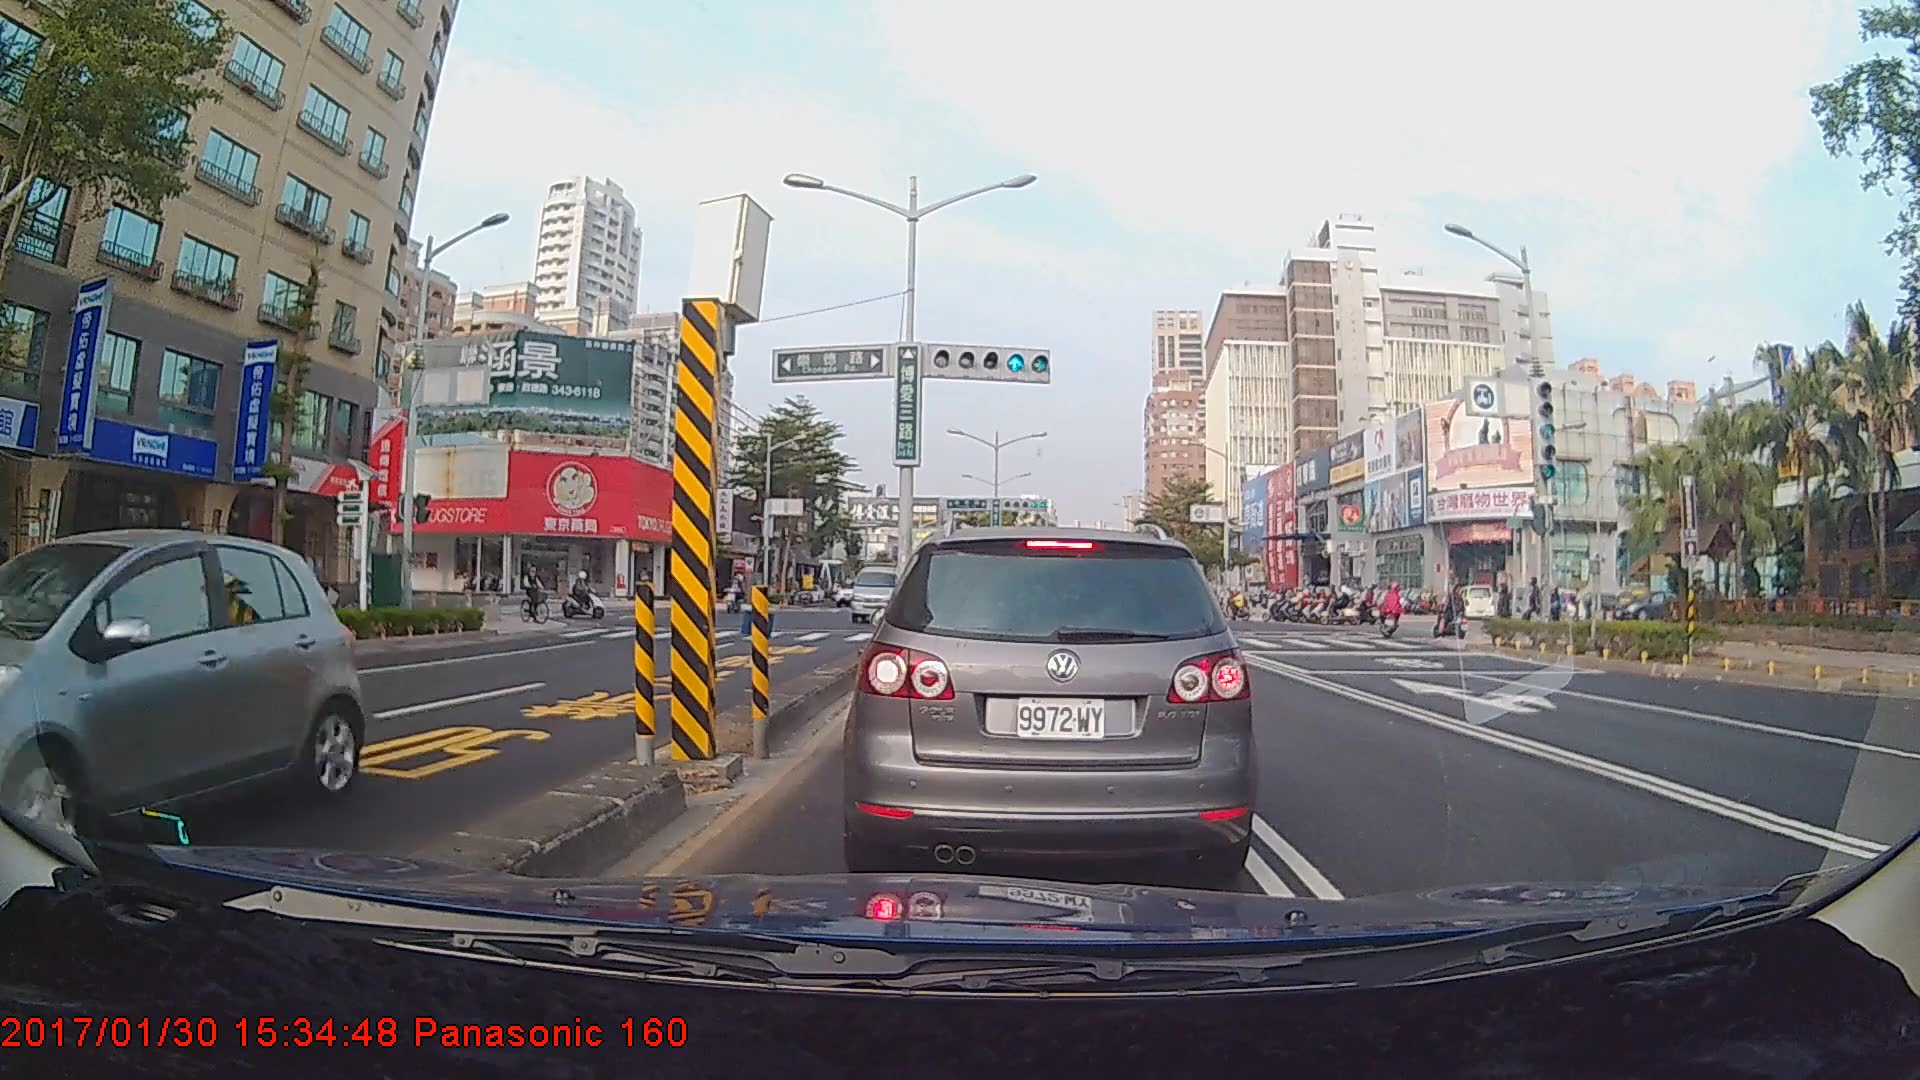pedestrian: (1494, 579, 1519, 637)
rider: (518, 559, 560, 629), (1436, 582, 1473, 646), (1382, 580, 1412, 640)
vehicle: (853, 523, 1249, 882), (0, 527, 361, 842), (848, 555, 906, 622)
